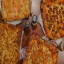pizza: (38, 1, 64, 39), (1, 20, 19, 64), (31, 33, 55, 64), (1, 1, 31, 20)
